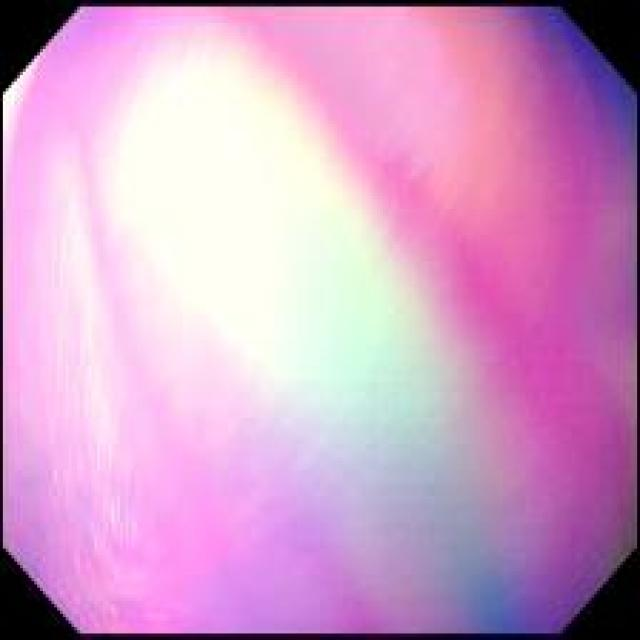color misalignment: (1, 4, 638, 637)
saturation: (113, 47, 425, 400), (5, 66, 33, 166)
